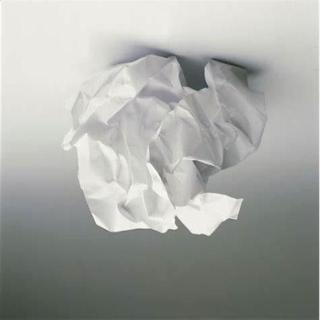Anorganik: (59, 50, 268, 242)
